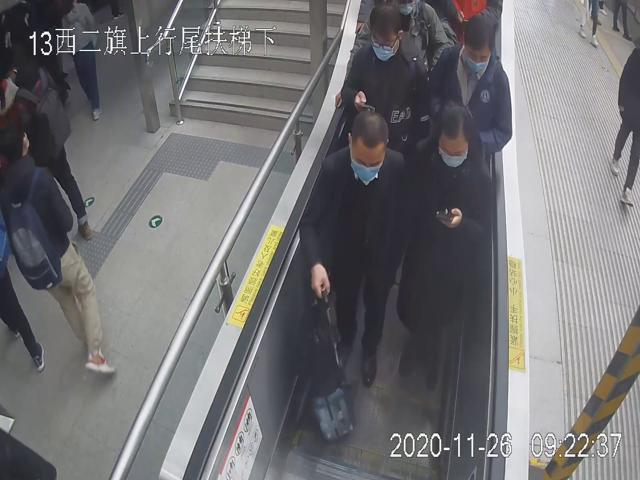person: (298, 110, 406, 389), (397, 102, 493, 392), (424, 10, 514, 151), (338, 0, 419, 150)
